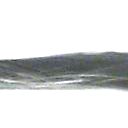crackTip: (1, 51, 128, 91)
